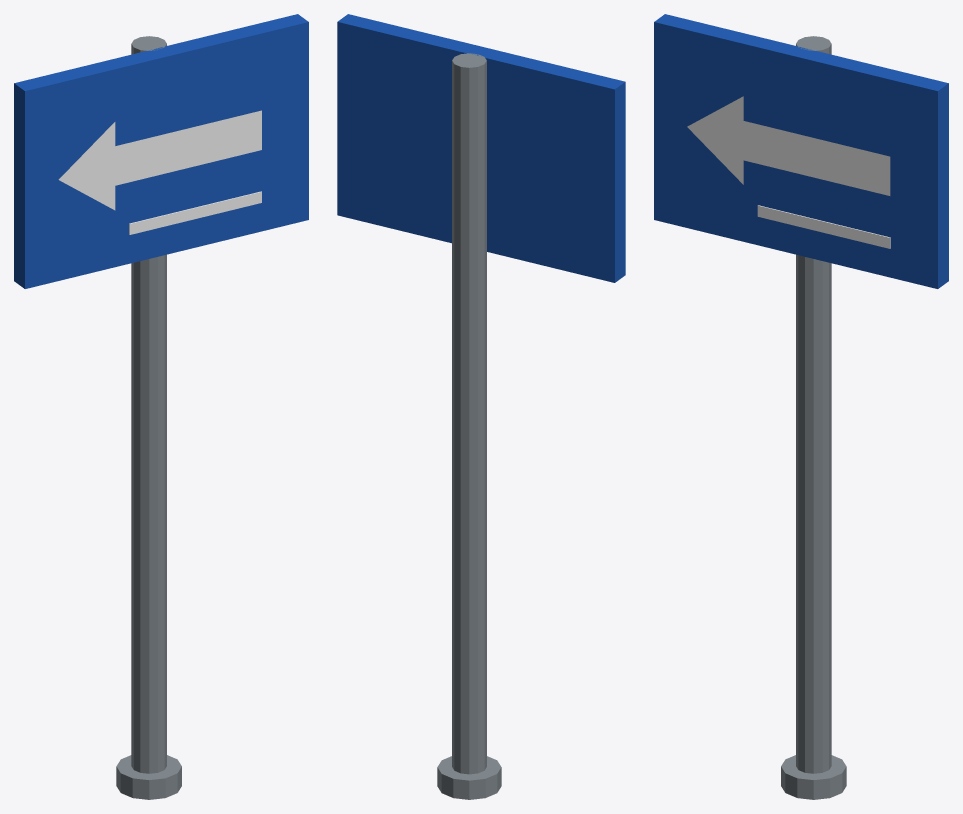
Rendered from roadsign.glb.
3 renders of one model, left to right at view 1: azimuth 30°, elevation 25°; view 2: azimuth 150°, elevation 25°; view 3: azimuth 330°, elevation 25°, orthographic. The views are drawn at different scales.
Parts seen in each view (by area): view 1: body; view 2: body; view 3: body.
Part boxes in pixels (x1,y1,x2,y2): body: [14, 14, 308, 799]; body: [337, 14, 625, 799]; body: [654, 14, 948, 799].
Bounding box in the file's own units: 1.2 × 3 × 0.254.
